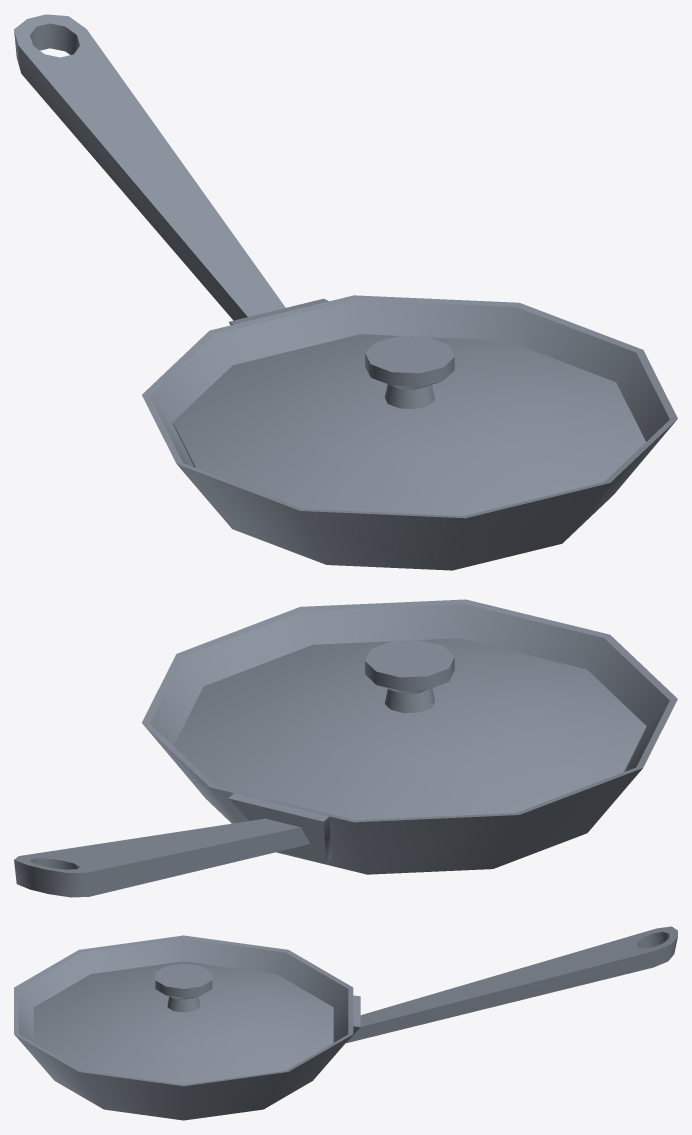
The model's file is cooking_assets_frying_pan.glb.
3 renders of one model, top to bottom at view 1: azimuth 30°, elevation 25°; view 2: azimuth 150°, elevation 25°; view 3: azimuth 270°, elevation 25°, orthographic. The views are drawn at different scales.
Visible parts, largest first — view 1: pan_frying_pan_Cylinder.070, pan_frying_pan_lid.001_Cylinder.071; view 2: pan_frying_pan_lid.001_Cylinder.071, pan_frying_pan_Cylinder.070; view 3: pan_frying_pan_Cylinder.070, pan_frying_pan_lid.001_Cylinder.071.
Part boxes in pixels (bbox=[...]): pan_frying_pan_Cylinder.070: bbox=[14, 14, 677, 570]; pan_frying_pan_lid.001_Cylinder.071: bbox=[173, 334, 645, 515]; pan_frying_pan_lid.001_Cylinder.071: bbox=[174, 638, 646, 820]; pan_frying_pan_Cylinder.070: bbox=[14, 599, 677, 897]; pan_frying_pan_Cylinder.070: bbox=[14, 926, 677, 1120]; pan_frying_pan_lid.001_Cylinder.071: bbox=[33, 961, 333, 1084].
Size of the model in its own units: 3.48 by 1.39 by 6.47.
1 material, 1 textured.
